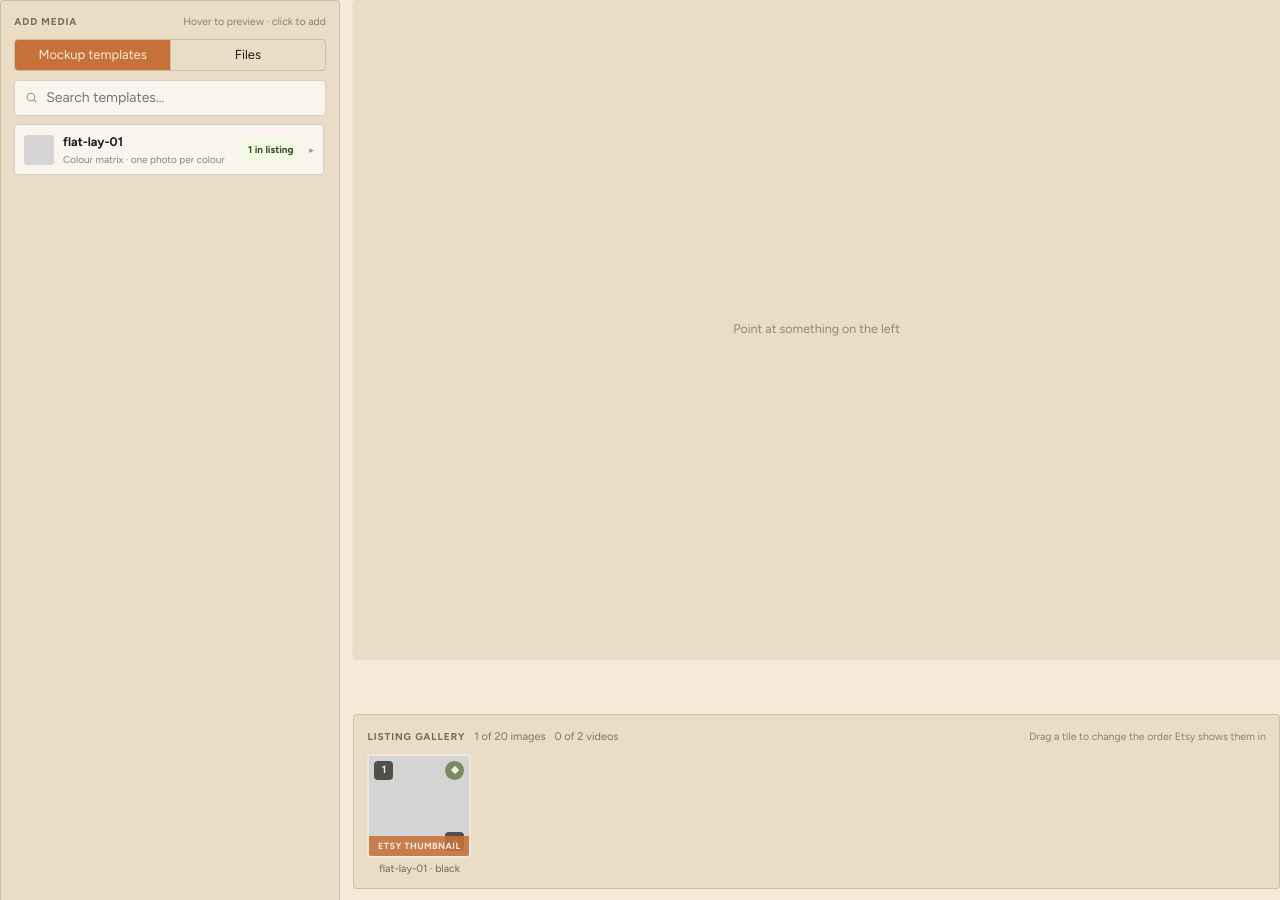
Test: ImagesTab's Etsy colour-swatch toggle › reports which colours the chosen template still cannot supply a swatch for
Click the text "flat-lay-01" at point(93, 142), box 63,134 -> 123,149
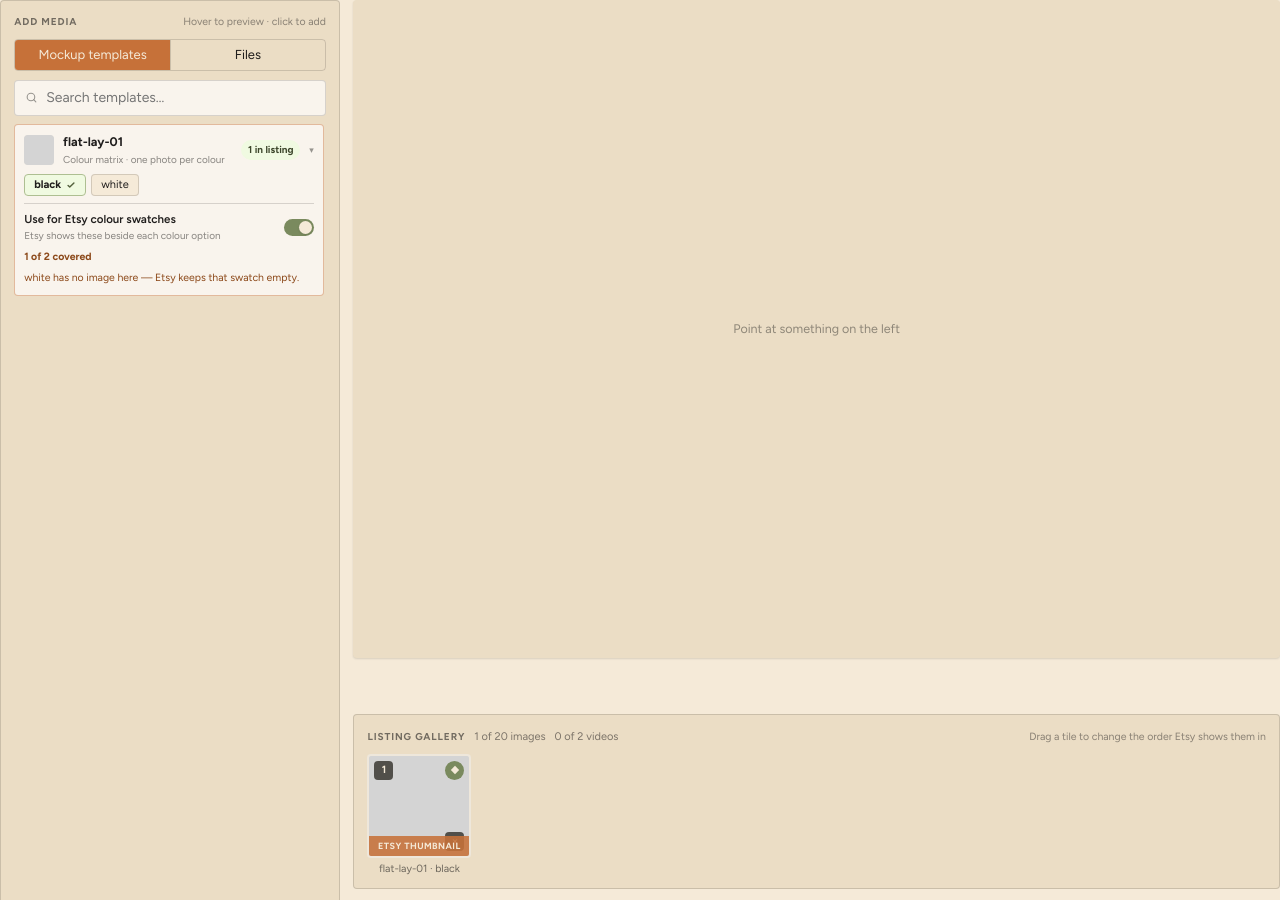
Expected: the text "1 of 2 covered" is shown, 24,250 -> 92,263
Expected: the text "white has no image here — Etsy keeps that swatch empty." is shown, 24,270 -> 314,286
